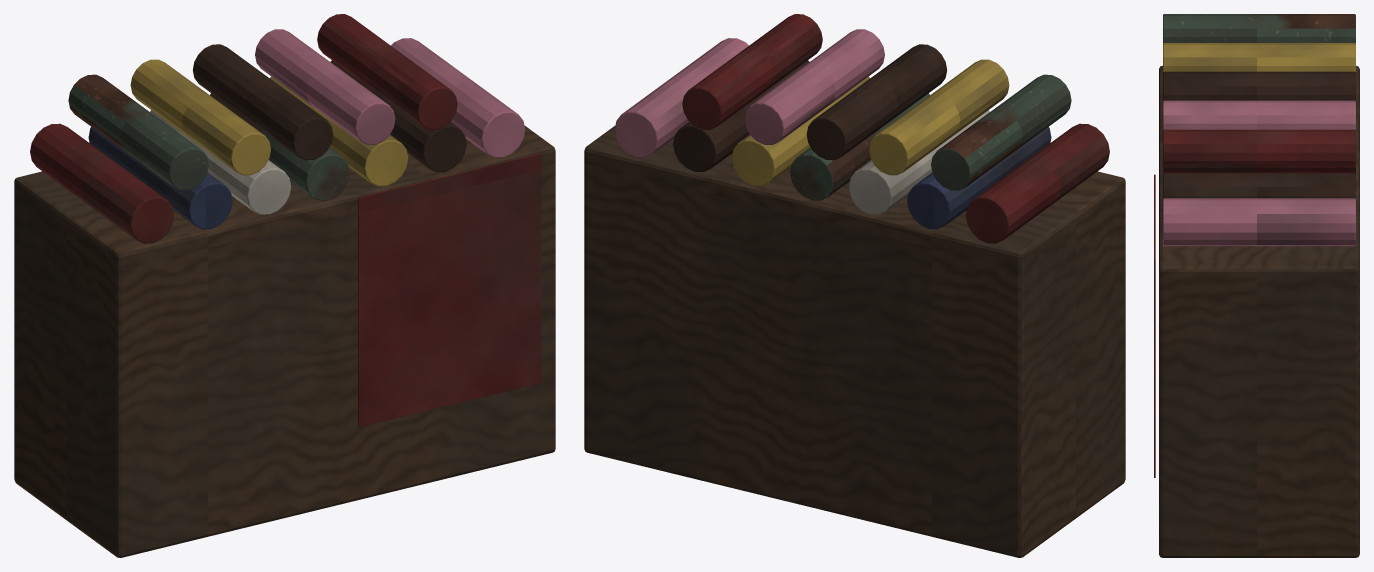
Rendered from W04_cloth_rolls_rack.glb.
3 renders of one model, left to right at view 1: azimuth 30°, elevation 25°; view 2: azimuth 150°, elevation 25°; view 3: azimuth 270°, elevation 25°, orthographic. The views are drawn at different scales.
Parts seen in each view (by area): view 1: W04_cloth_rolls_rack; view 2: W04_cloth_rolls_rack; view 3: W04_cloth_rolls_rack.
Boxes of the visible parts, x1,y1,x2,y2 form: W04_cloth_rolls_rack: (14,14,555,557); W04_cloth_rolls_rack: (584,14,1125,557); W04_cloth_rolls_rack: (1154,14,1359,557).
Size of the model in its own units: 1.2 by 1.03 by 0.512.
8 materials, 8 textured.
